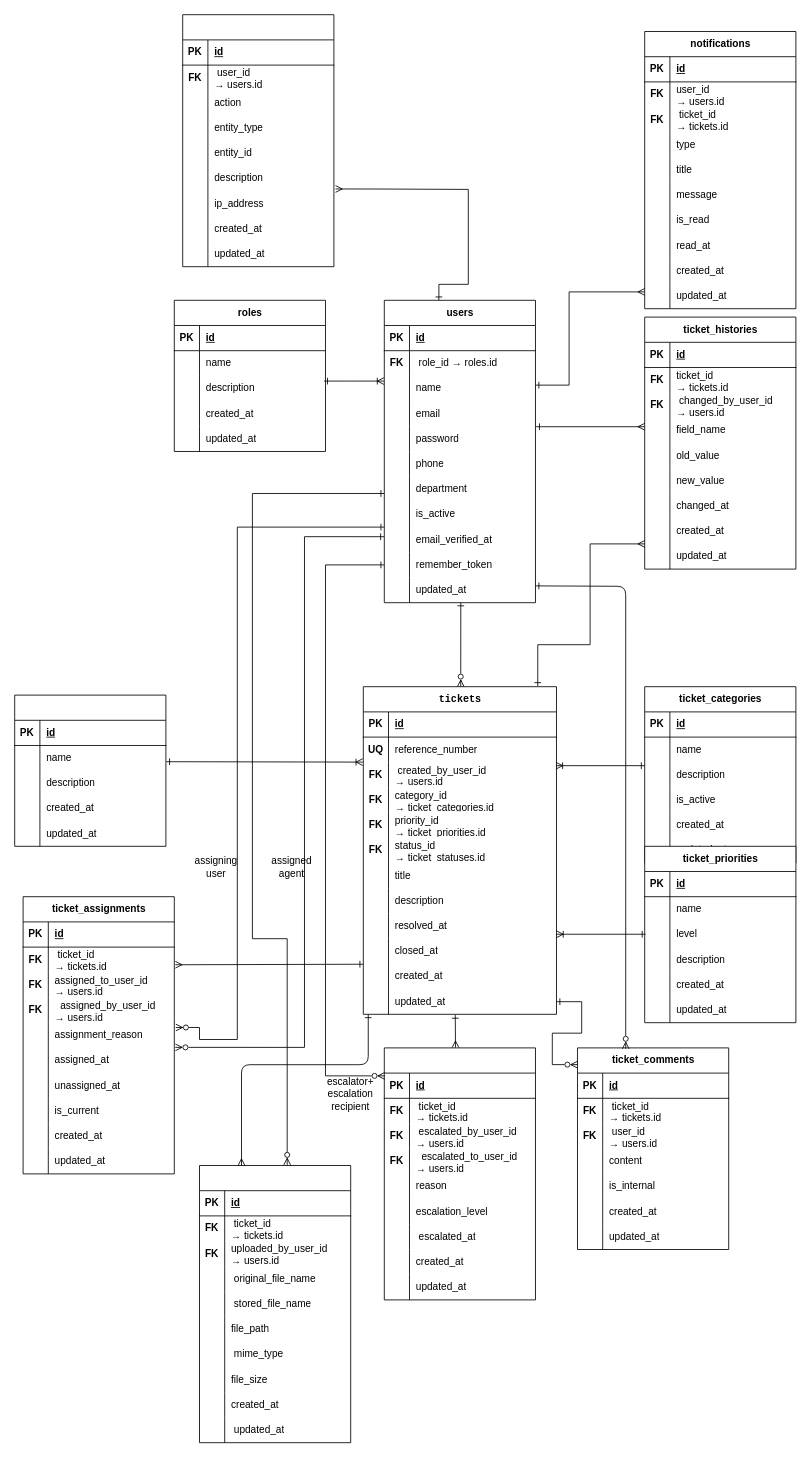
This 811x1457 diagram has some shape labels left out. Here are the shapes that lost their labels. From the top down, the box of each, then its label:
(182, 14, 334, 267): activity_logs
(14, 694, 166, 846): ticket_statuses
(383, 1047, 536, 1300): ticket_escalations
(199, 1165, 351, 1443): ticket_attachments
